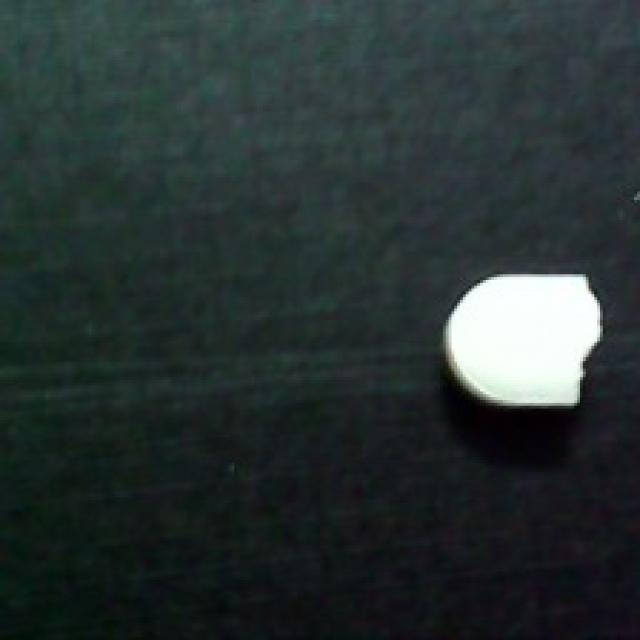defected: (440, 263, 606, 417)
